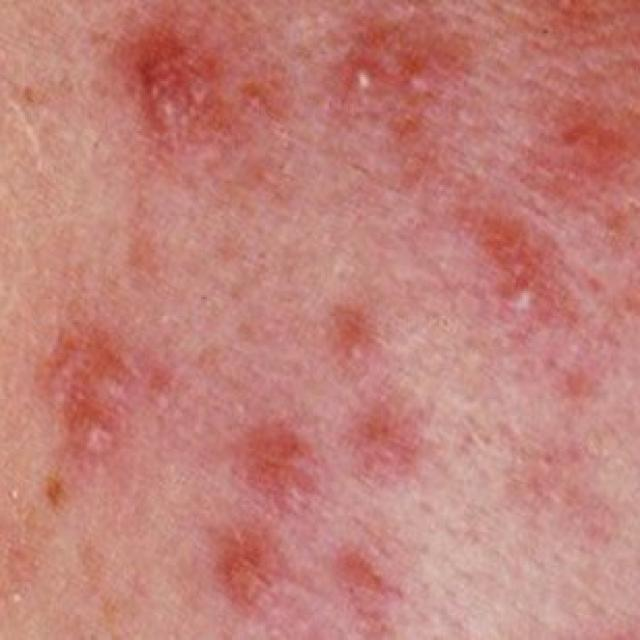acne: (110, 25, 290, 166), (33, 314, 168, 491), (439, 222, 588, 360), (333, 8, 466, 133), (340, 406, 468, 516), (228, 398, 334, 518), (186, 522, 294, 630), (306, 542, 424, 626), (314, 284, 398, 388)
